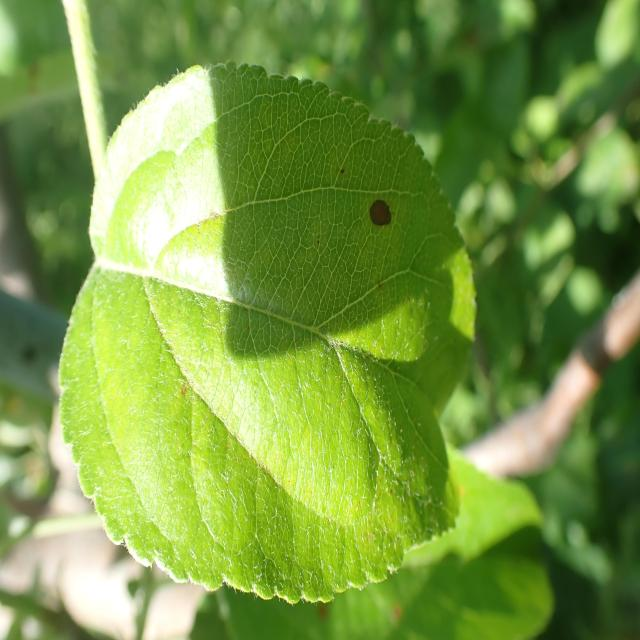Black Rot: (352, 181, 404, 264)
